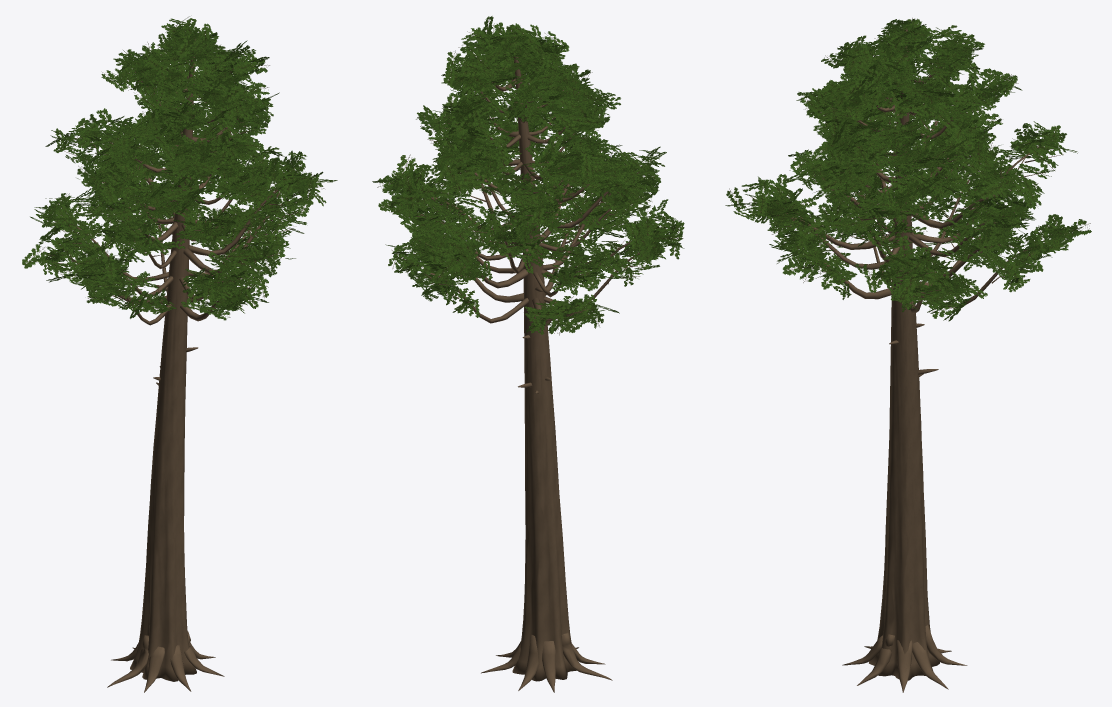
Rendered from GF2_Tree_B_Leaning_LOD1.fbx.
The picture shows the model from 3 angles, left to right: view 1: azimuth 30°, elevation 25°; view 2: azimuth 150°, elevation 25°; view 3: azimuth 270°, elevation 25°; orthographic projection. The views are drawn at different scales.
Visible parts, largest first — view 1: GF2_Tree_B_Leaning_LOD1; view 2: GF2_Tree_B_Leaning_LOD1; view 3: GF2_Tree_B_Leaning_LOD1.
Part boxes in pixels (x1,y1,x2,y2): GF2_Tree_B_Leaning_LOD1: (22, 16, 337, 692); GF2_Tree_B_Leaning_LOD1: (372, 16, 684, 692); GF2_Tree_B_Leaning_LOD1: (725, 18, 1091, 692).
Size of the model in its own units: 50.37 by 106 by 54.6.
